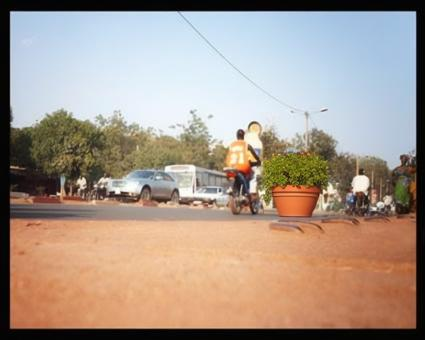bus: (166, 165, 234, 204)
car: (105, 170, 180, 205), (187, 186, 232, 207)
motorbike: (225, 168, 262, 216), (295, 184, 313, 215), (354, 193, 368, 219)
person: (226, 130, 262, 196), (296, 159, 317, 205), (351, 169, 371, 212)
pottedplant: (265, 152, 327, 216)
